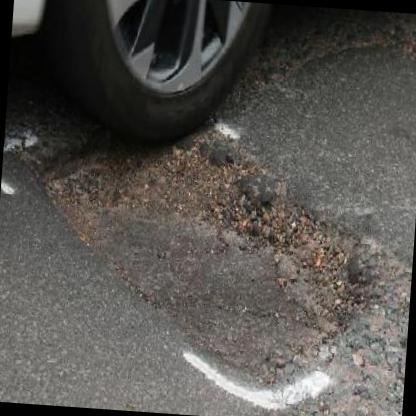pothole: (29, 116, 370, 350)
